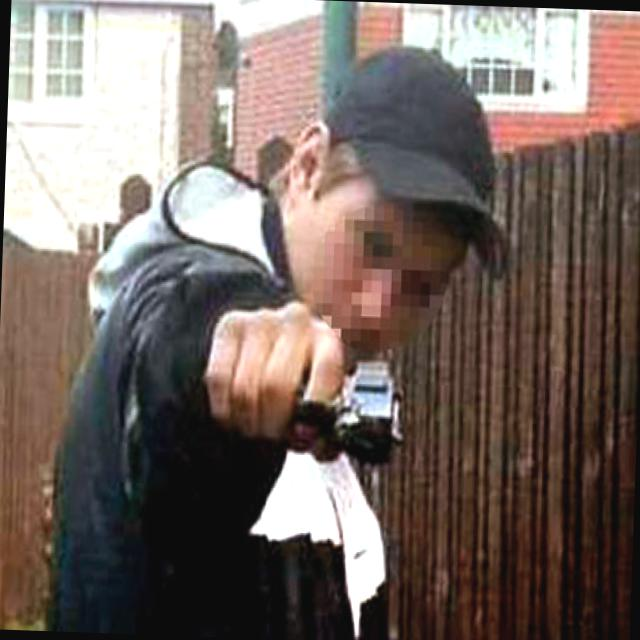handgun: (284, 352, 406, 467)
